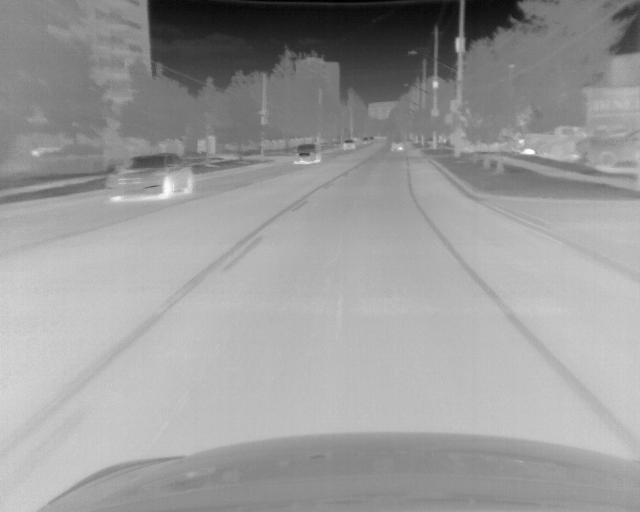car: (107, 154, 195, 202), (585, 129, 640, 169), (521, 124, 582, 154), (295, 143, 320, 164), (390, 140, 403, 152), (342, 140, 356, 150), (363, 136, 374, 145)
